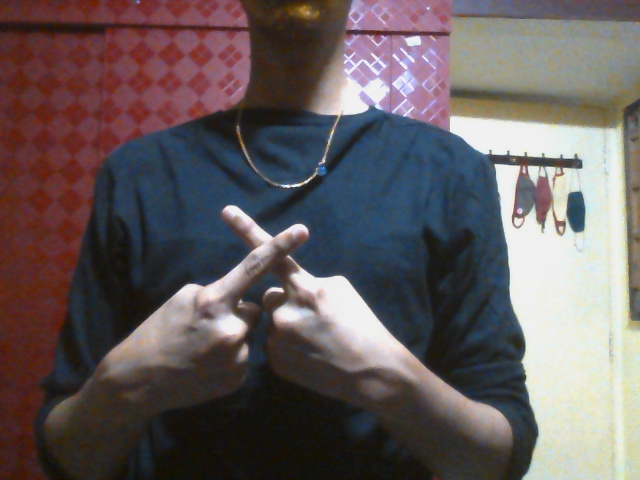X: (123, 202, 385, 419)
